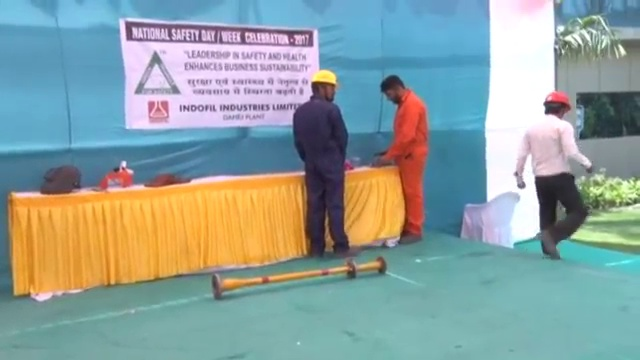helmet: (543, 90, 573, 112), (309, 69, 340, 88)
helmet_off: (379, 73, 409, 104)
helmet_on: (305, 69, 340, 102), (541, 90, 573, 121)
person: (291, 69, 363, 257), (516, 90, 593, 259), (376, 73, 429, 244)
